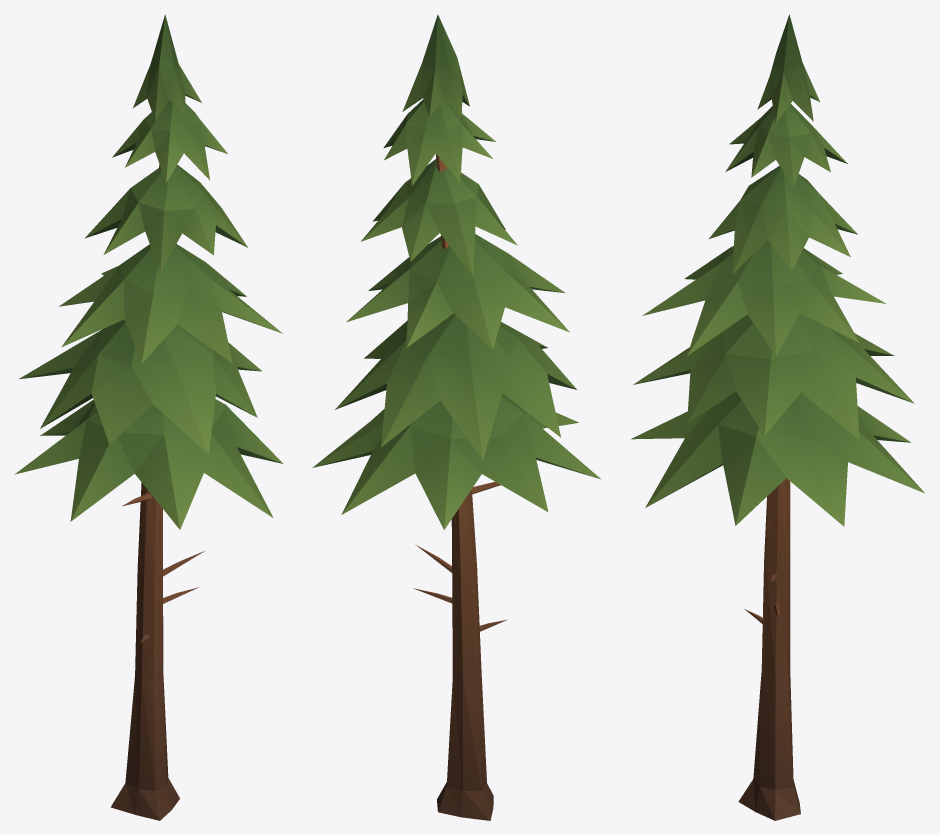
File: pine_tree_01.glb
3 views of the same model, side by side, from view 1: azimuth 30°, elevation 25°; view 2: azimuth 150°, elevation 25°; view 3: azimuth 270°, elevation 25° (orthographic). The views are drawn at different scales.
Parts seen in each view (by area): view 1: pine_tree_01_foliage, pine_tree_01_bark; view 2: pine_tree_01_foliage, pine_tree_01_bark; view 3: pine_tree_01_foliage, pine_tree_01_bark.
Part boxes in pixels (bbox=[...]): pine_tree_01_foliage: bbox=[14, 14, 283, 529]; pine_tree_01_bark: bbox=[110, 164, 205, 820]; pine_tree_01_foliage: bbox=[312, 14, 601, 529]; pine_tree_01_bark: bbox=[413, 154, 507, 820]; pine_tree_01_foliage: bbox=[631, 14, 924, 526]; pine_tree_01_bark: bbox=[738, 478, 800, 820].
Bounding box in the file's own units: 3.99 × 13.11 × 4.37.
